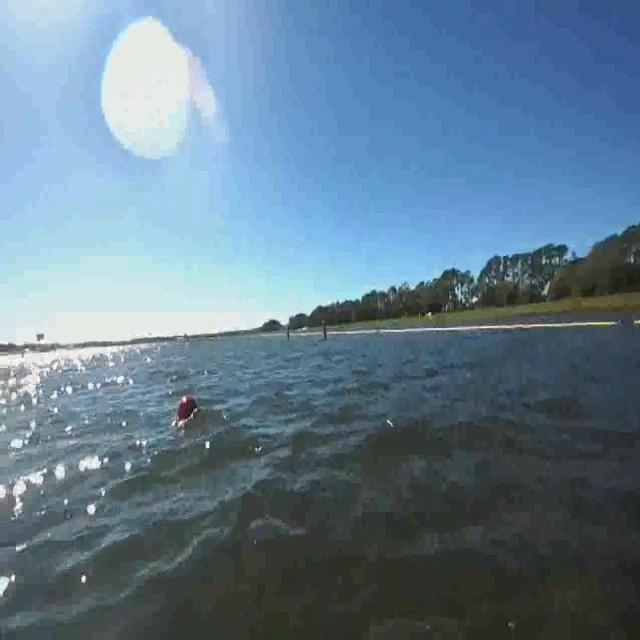red-buoy: (176, 394, 198, 426)
